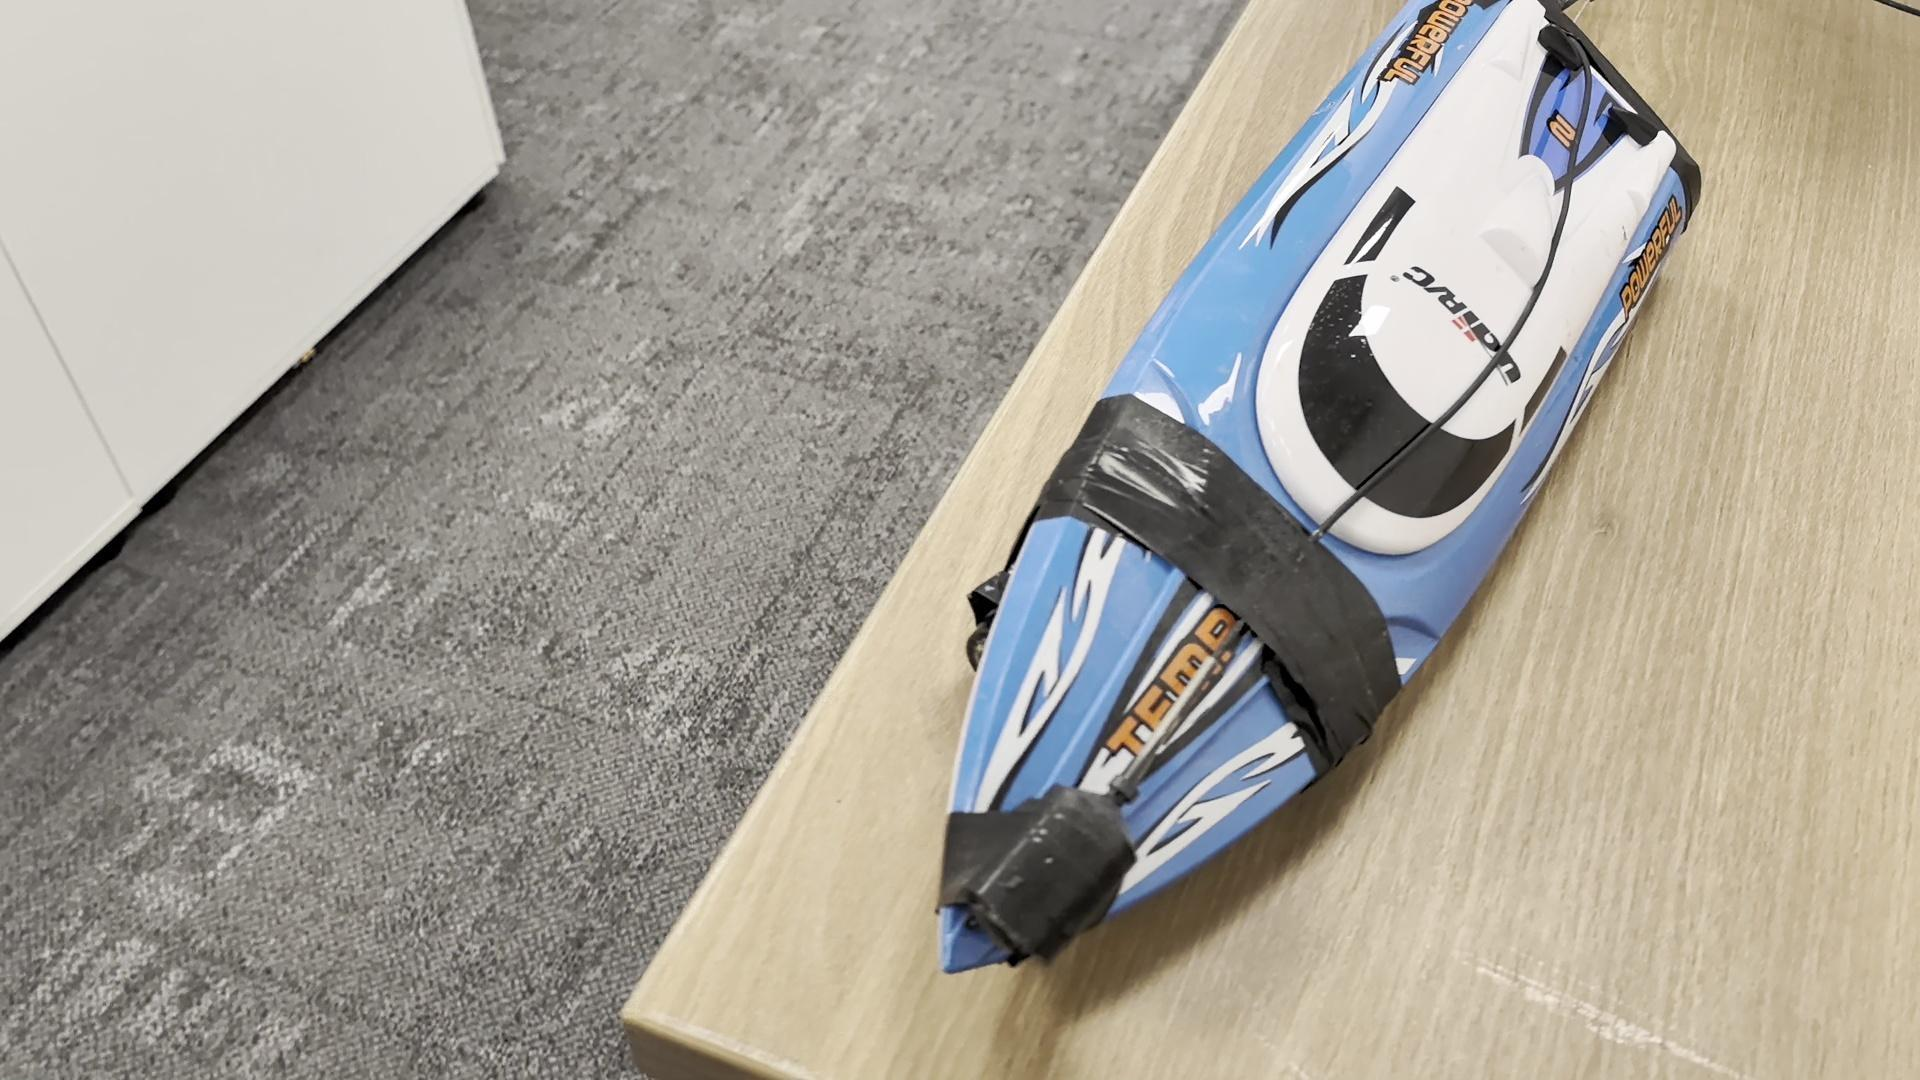Boat: (928, 3, 1702, 975)
